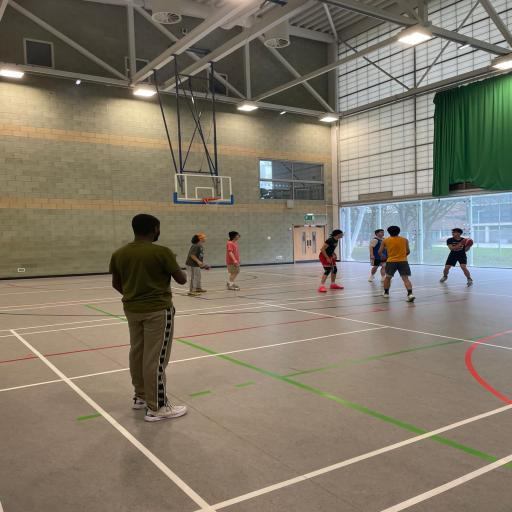hoops: (195, 194, 233, 215)
